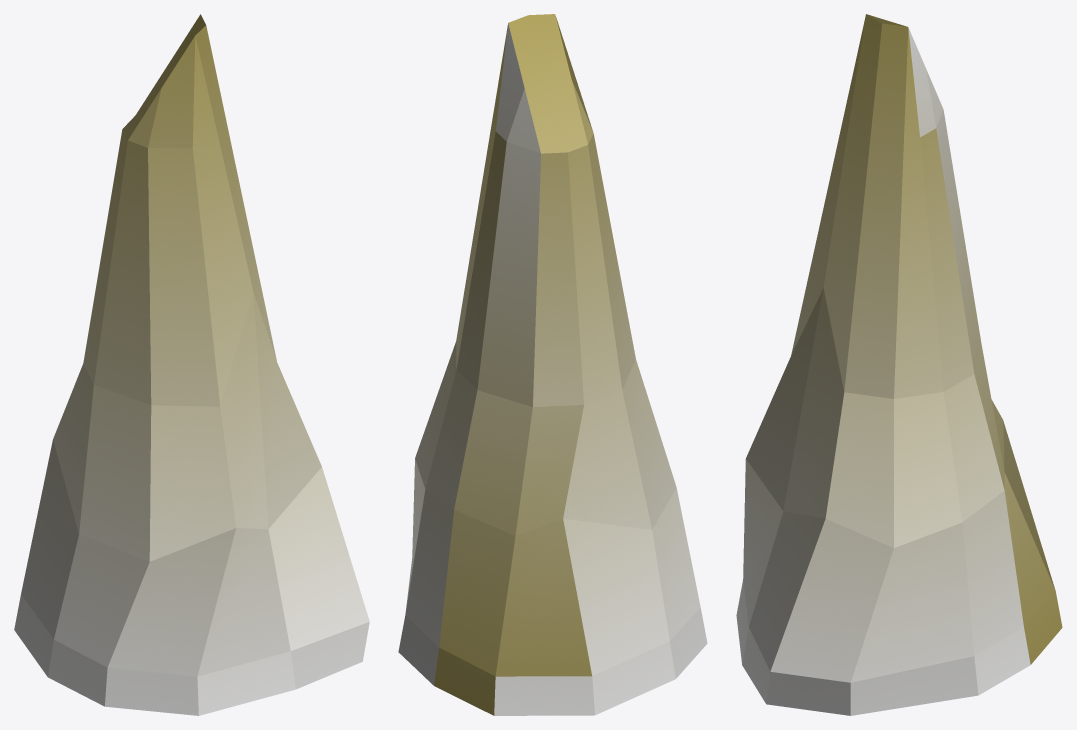
Rendered from Rock9.obj.
The picture shows the model from 3 angles, left to right: view 1: azimuth 30°, elevation 25°; view 2: azimuth 150°, elevation 25°; view 3: azimuth 270°, elevation 25°; orthographic projection.
Visible parts, largest first — view 1: Rock15:group3 Rock15:pasted__group Rock15:pasted__pasted__pSpher; view 2: Rock15:group3 Rock15:pasted__group Rock15:pasted__pasted__pSpher; view 3: Rock15:group3 Rock15:pasted__group Rock15:pasted__pasted__pSpher.
Part boxes in pixels (left/top/right/bottom): Rock15:group3 Rock15:pasted__group Rock15:pasted__pasted__pSpher: left=14, top=14, right=369, bottom=715; Rock15:group3 Rock15:pasted__group Rock15:pasted__pasted__pSpher: left=398, top=14, right=707, bottom=715; Rock15:group3 Rock15:pasted__group Rock15:pasted__pasted__pSpher: left=736, top=14, right=1062, bottom=715.
Size of the model in its own units: 12.03 by 25.1 by 11.75.
Materials: 1 (1 with a texture image).
